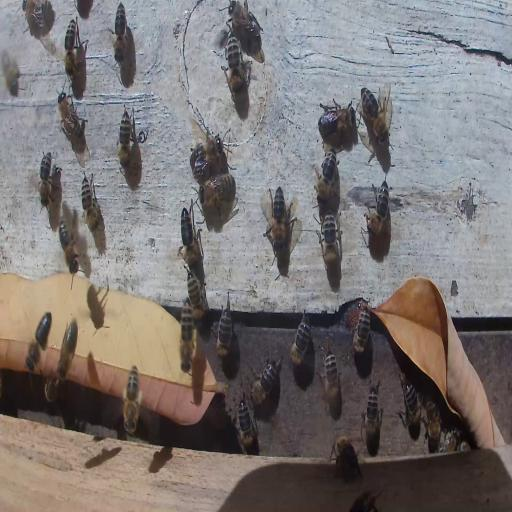bee: (359, 82, 393, 146), (248, 348, 284, 406), (118, 359, 144, 438), (397, 376, 422, 441), (25, 312, 52, 372), (365, 180, 392, 237), (362, 382, 383, 454), (190, 124, 220, 174), (318, 98, 354, 138), (200, 175, 236, 213), (332, 435, 362, 480), (319, 209, 340, 273), (56, 90, 84, 138), (266, 185, 287, 247), (80, 173, 102, 232), (235, 394, 256, 455), (323, 345, 340, 419), (316, 150, 339, 204), (224, 37, 244, 97), (350, 302, 372, 356), (58, 320, 78, 378), (182, 206, 200, 270), (290, 313, 311, 367), (180, 306, 196, 374), (230, 3, 261, 37), (214, 299, 232, 357), (60, 219, 78, 274), (186, 272, 207, 317), (118, 106, 132, 171), (425, 400, 441, 451), (65, 18, 78, 78), (113, 2, 126, 61), (39, 149, 52, 208), (440, 427, 469, 453), (3, 53, 20, 96), (26, 5, 54, 31), (351, 490, 376, 511), (44, 376, 59, 404)
